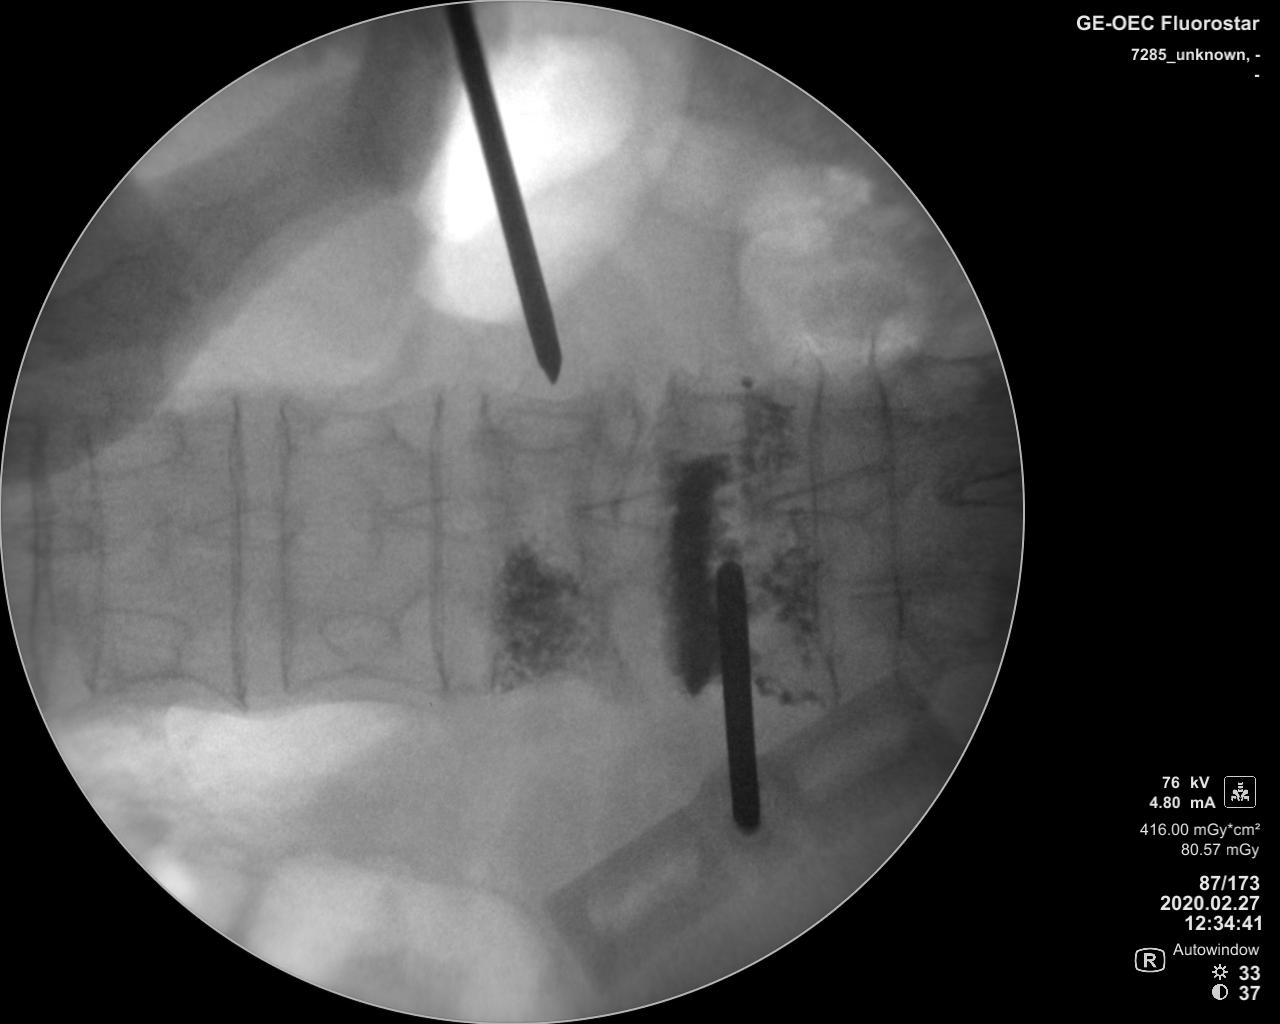eyes: (77, 607, 191, 677), (884, 358, 987, 422), (82, 421, 189, 481), (315, 604, 405, 662), (494, 405, 598, 451), (304, 408, 396, 456)
line: (872, 359, 914, 675), (802, 362, 839, 701), (224, 392, 254, 712), (424, 387, 456, 694), (74, 420, 104, 691), (29, 419, 55, 699), (272, 394, 295, 695)
nose: (754, 465, 893, 523), (179, 503, 310, 549), (572, 490, 686, 536), (934, 460, 1022, 519), (379, 497, 496, 540), (10, 514, 101, 559)
